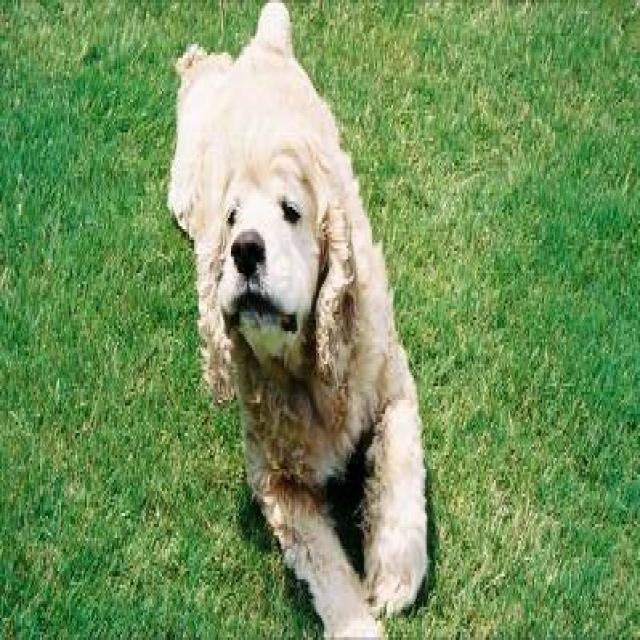dog: (165, 0, 428, 637)
